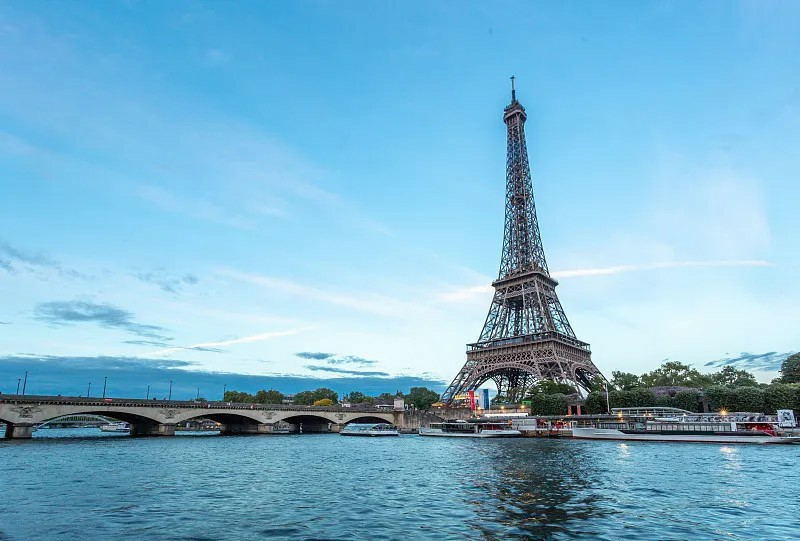Eiffel: (439, 75, 617, 411)
